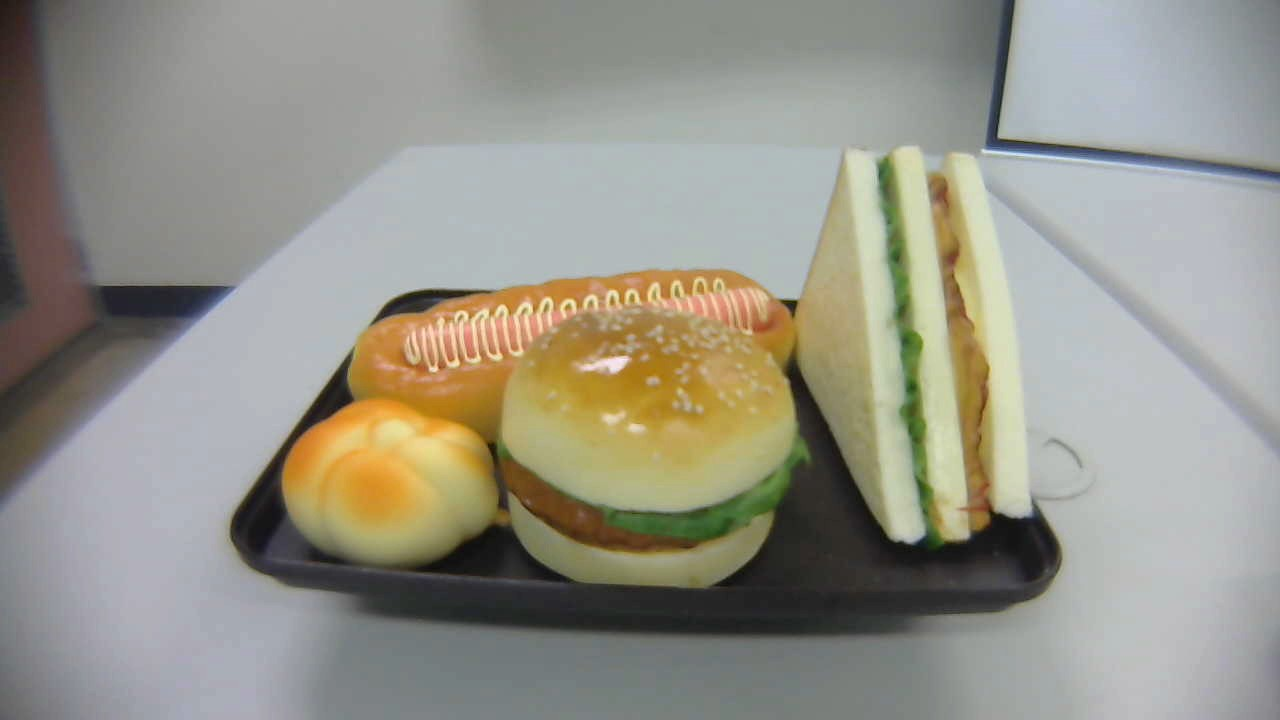hamburger: (501, 302, 814, 597)
hot dog: (344, 266, 798, 446)
sandwich: (793, 144, 1033, 548)
twist bread: (281, 400, 508, 581)
